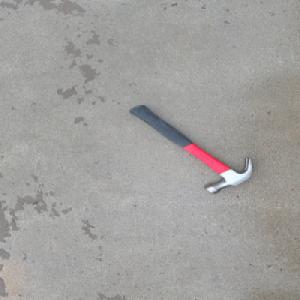Hammer: (125, 101, 253, 192)
